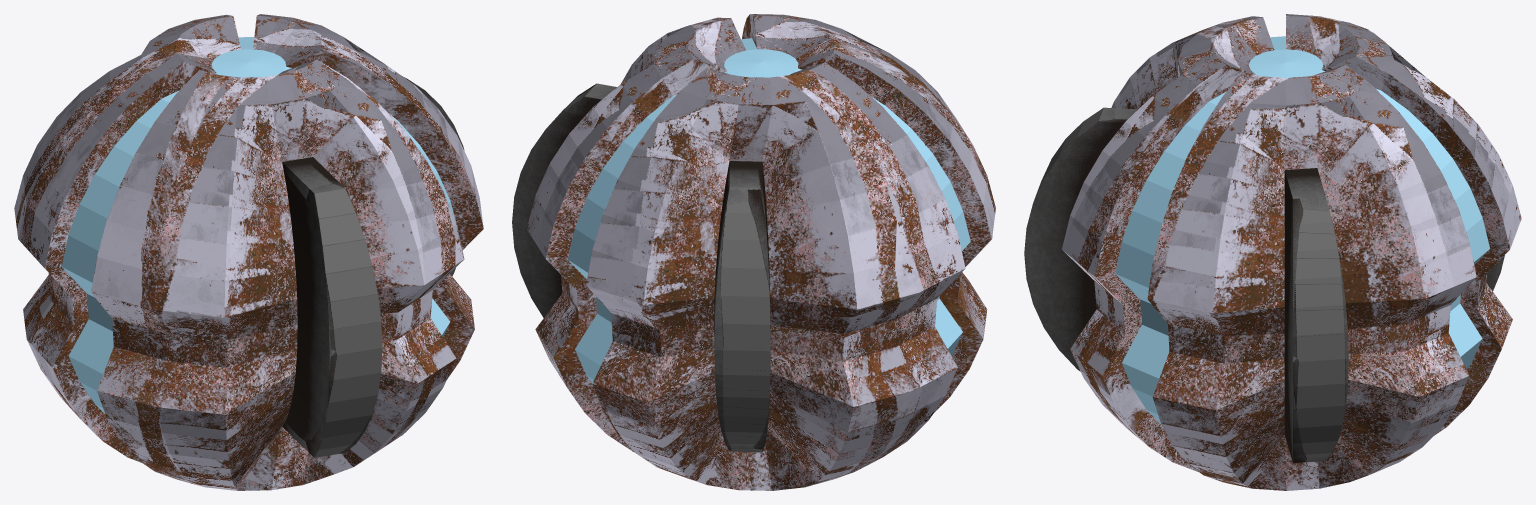
The model's file is coreFinal.fbx.
3 views of the same model, side by side, from view 1: azimuth 30°, elevation 25°; view 2: azimuth 150°, elevation 25°; view 3: azimuth 270°, elevation 25° (orthographic).
Parts seen in each view (by area): view 1: pSphere1; view 2: pSphere1; view 3: pSphere1.
Part boxes in pixels (x1,y1,x2,y2): pSphere1: [14, 14, 483, 490]; pSphere1: [512, 14, 995, 490]; pSphere1: [1024, 14, 1521, 490].
Bounding box in the file's own units: 4.6 × 4.21 × 4.62.
